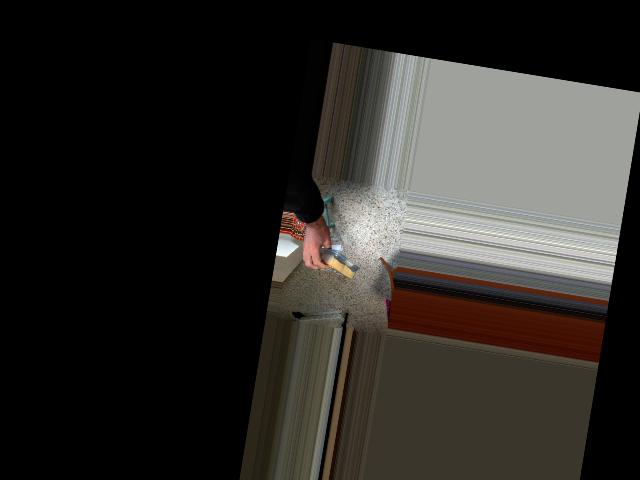cheese: (306, 240, 365, 284)
